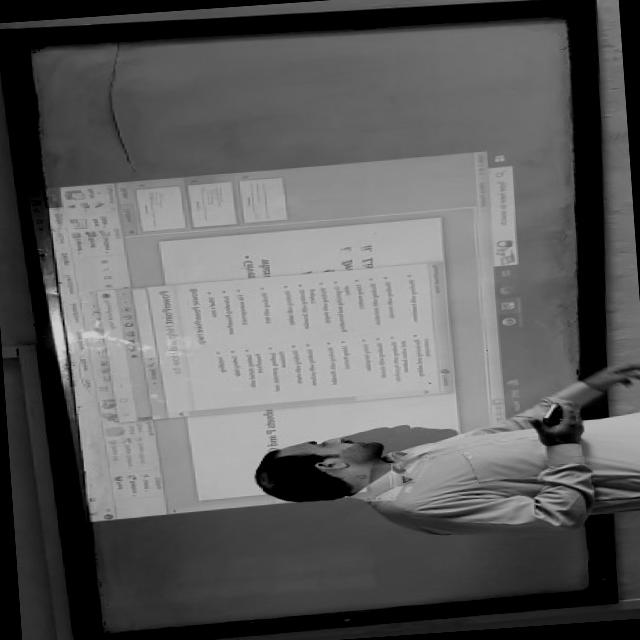Instructor: (247, 398, 640, 537)
Slide: (26, 144, 541, 520)
White-board: (13, 6, 596, 640)
